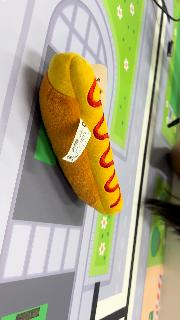hotdog: (38, 52, 124, 216)
